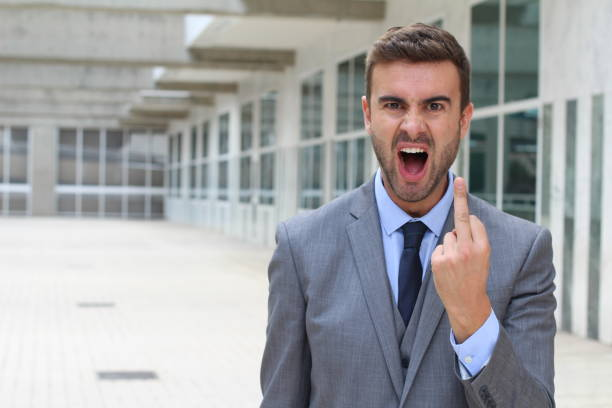insulting_gesture: (431, 175, 489, 298)
